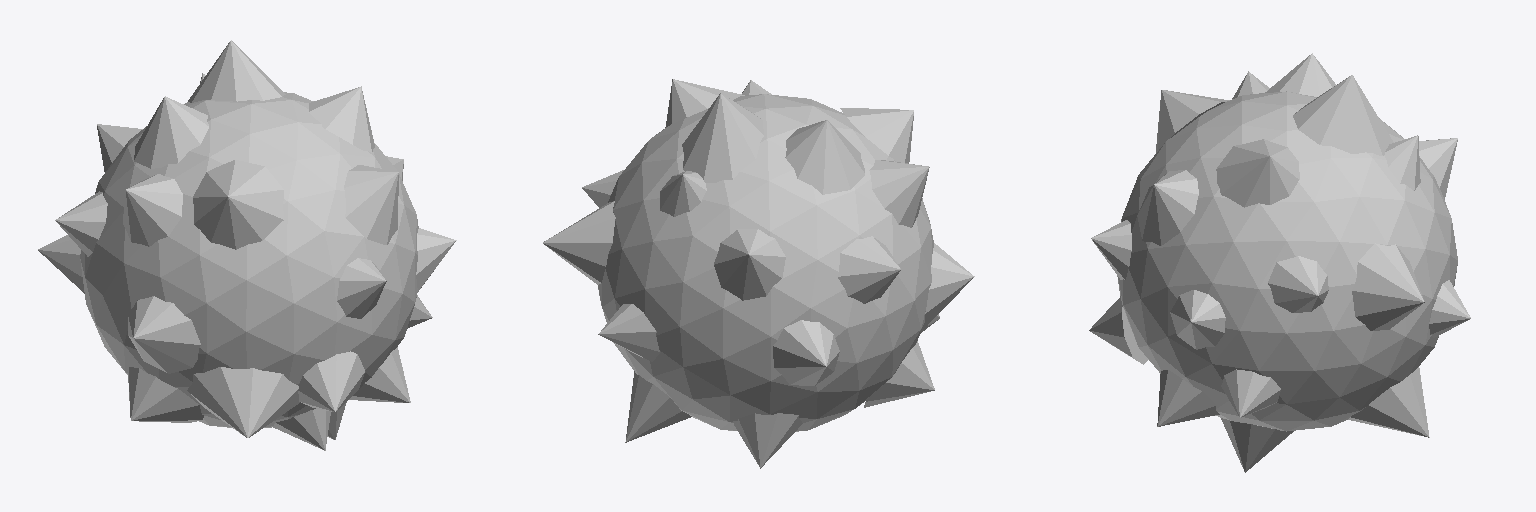
File: NewMountainTerrain.obj
3 views of the same model, side by side, from view 1: azimuth 30°, elevation 25°; view 2: azimuth 150°, elevation 25°; view 3: azimuth 270°, elevation 25° (orthographic).
Parts seen in each view (by area): view 1: NewMountainTerrain; view 2: NewMountainTerrain; view 3: NewMountainTerrain.
Boxes of the visible parts, <box> form: NewMountainTerrain: <box>38,40,456,450</box>; NewMountainTerrain: <box>543,79,974,468</box>; NewMountainTerrain: <box>1089,53,1470,472</box>.
Size of the model in its own units: 1.13 by 1.2 by 1.11.